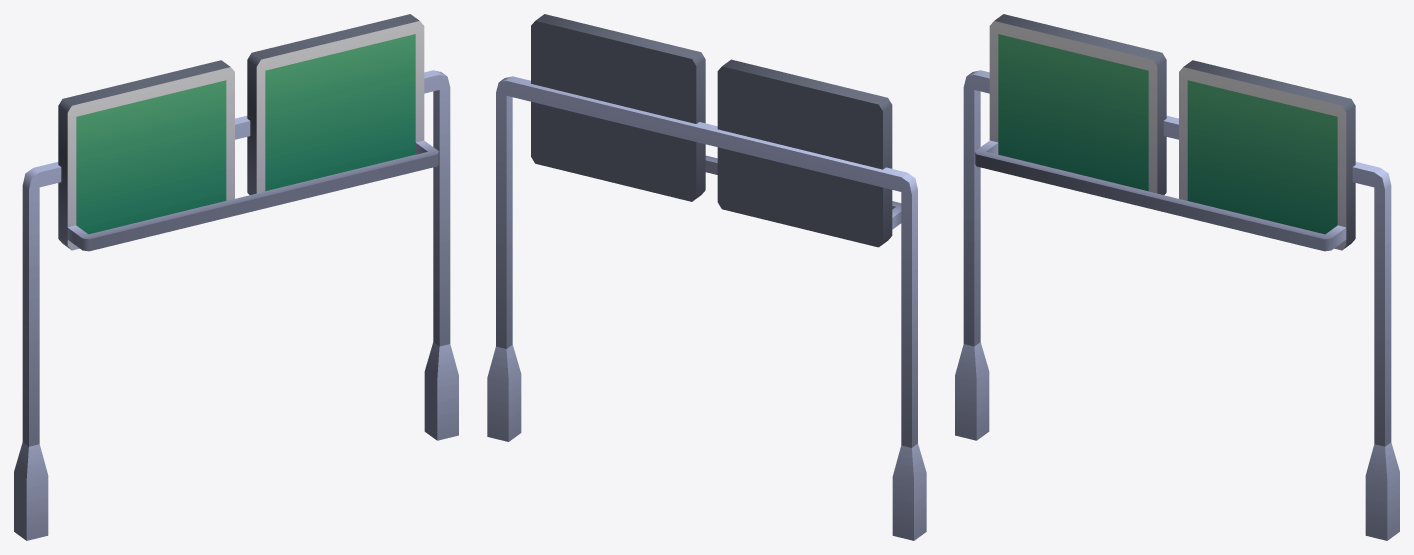
File: obstacle_over_sign.glb
3 renders of one model, left to right at view 1: azimuth 30°, elevation 25°; view 2: azimuth 150°, elevation 25°; view 3: azimuth 330°, elevation 25°, orthographic.
Visible parts, largest first — view 1: sign-highway; view 2: sign-highway; view 3: sign-highway.
Part boxes in pixels (box(x1,y1,x2,y2)): sign-highway: box(14, 14, 458, 540); sign-highway: box(487, 14, 926, 540); sign-highway: box(955, 14, 1399, 540).
Size of the model in its own units: 1.8 by 1.7 by 0.2399.
1 material, 1 textured.
